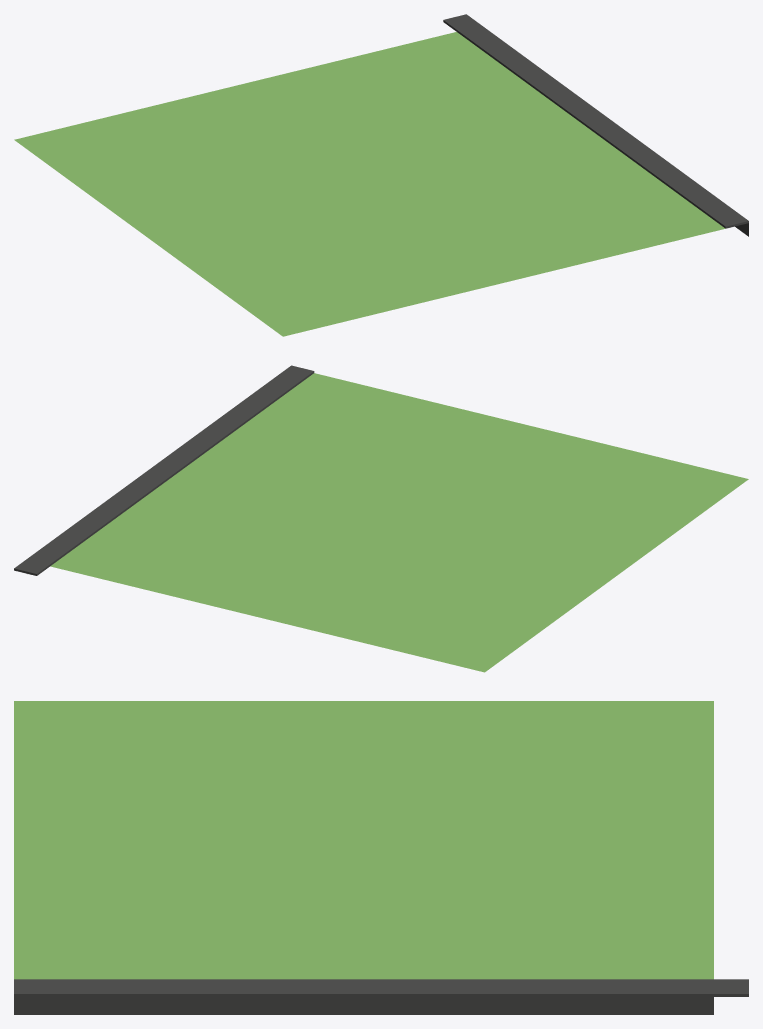
The model's file is M_Grass350x350_9.fbx.
The picture shows the model from 3 angles, top to bottom: view 1: azimuth 30°, elevation 25°; view 2: azimuth 150°, elevation 25°; view 3: azimuth 270°, elevation 25°; orthographic projection. The views are drawn at different scales.
Parts seen in each view (by area): view 1: M_Grass350x350_9; view 2: M_Grass350x350_9; view 3: M_Grass350x350_9.
Part boxes in pixels (left/top/right/bottom): M_Grass350x350_9: left=14, top=14, right=748, bottom=336; M_Grass350x350_9: left=14, top=365, right=748, bottom=672; M_Grass350x350_9: left=14, top=701, right=748, bottom=1014.
Bounding box in the file's own units: 350 × 368 × 11.5.
